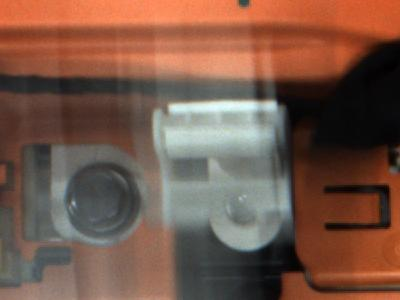nut_b: (61, 163, 149, 238)
